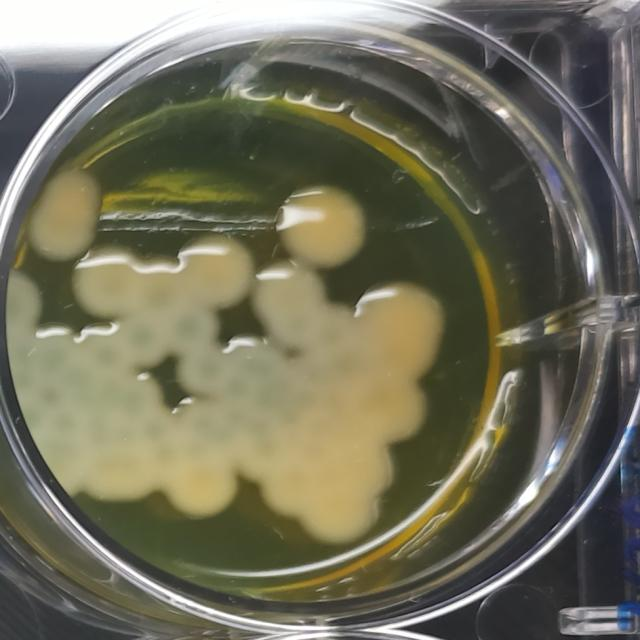vibrio: (247, 381, 437, 559), (30, 321, 161, 511), (265, 173, 372, 273), (355, 280, 453, 384), (168, 395, 240, 527), (24, 167, 107, 266), (243, 266, 336, 352), (173, 231, 259, 313), (69, 241, 149, 319), (159, 293, 227, 353), (175, 339, 235, 397)
